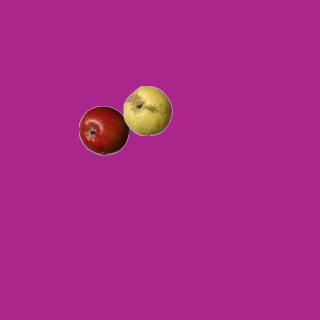Apple Braeburn: (78, 105, 128, 155)
Apple Golden 1: (122, 85, 172, 135)
